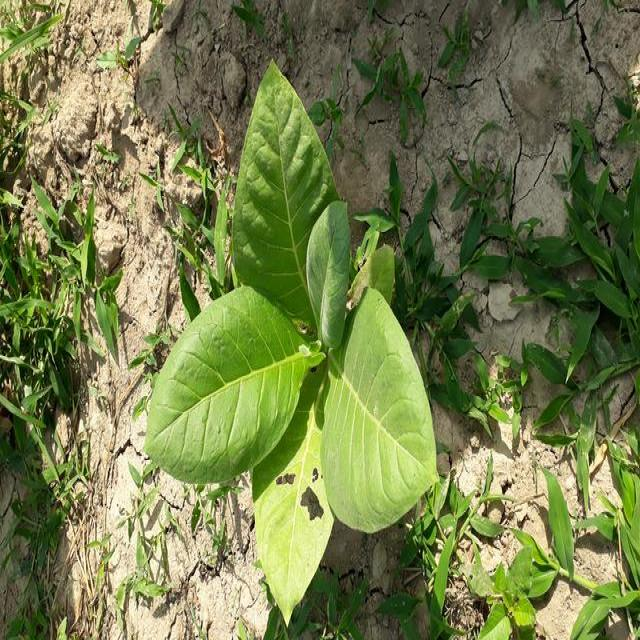crop: (158, 74, 436, 620)
